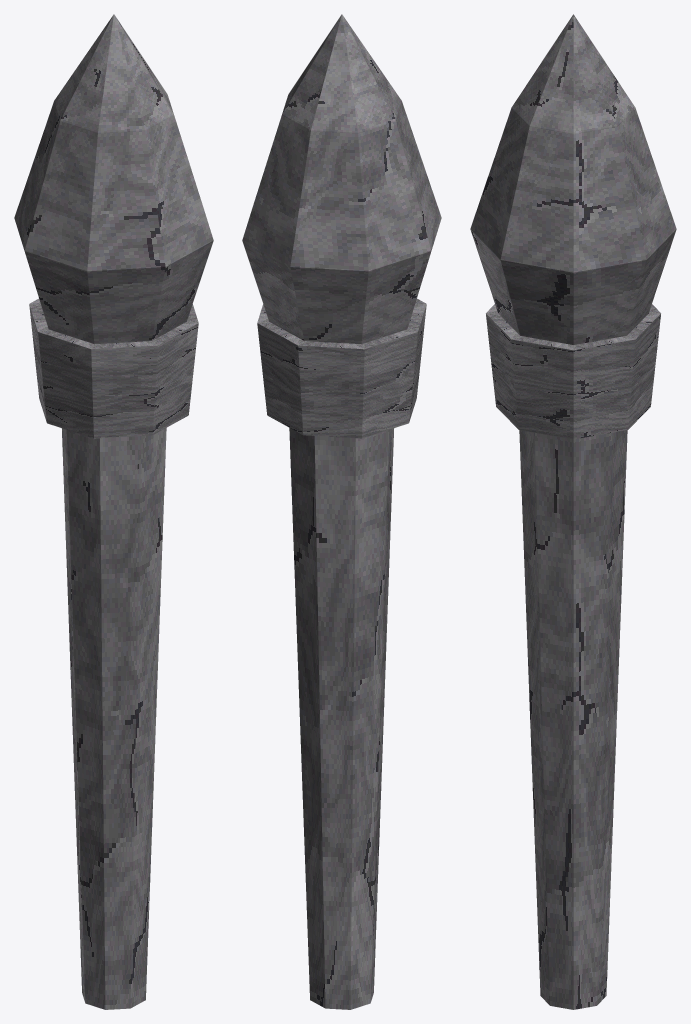
The model's file is tocha_de_chao_pedra.glb.
3 renders of one model, left to right at view 1: azimuth 30°, elevation 25°; view 2: azimuth 150°, elevation 25°; view 3: azimuth 270°, elevation 25°, orthographic.
Parts seen in each view (by area): view 1: tocha_de_chao_pedra; view 2: tocha_de_chao_pedra; view 3: tocha_de_chao_pedra.
Boxes of the visible parts, box(x1,y1,x2,y2) form: tocha_de_chao_pedra: box(14, 14, 213, 1009); tocha_de_chao_pedra: box(242, 14, 441, 1009); tocha_de_chao_pedra: box(470, 14, 676, 1009).
Bounding box in the file's own units: 0.2 × 1.05 × 0.2.
1 material, 1 textured.
